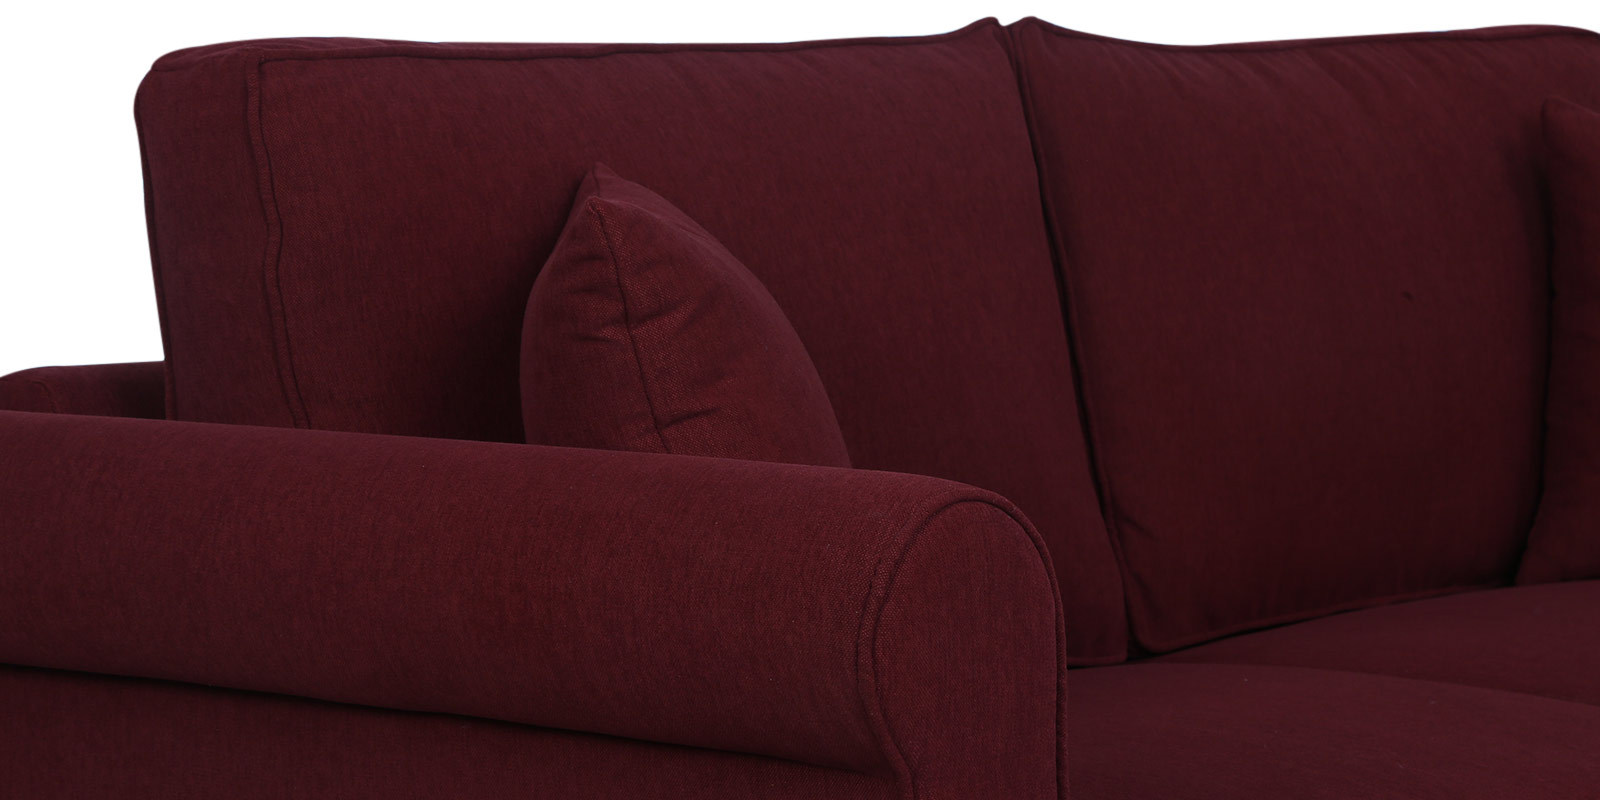Fuego Three Seater Sofa in Garnet Red Colour by CasaCraft: (12, 13, 1585, 800)
